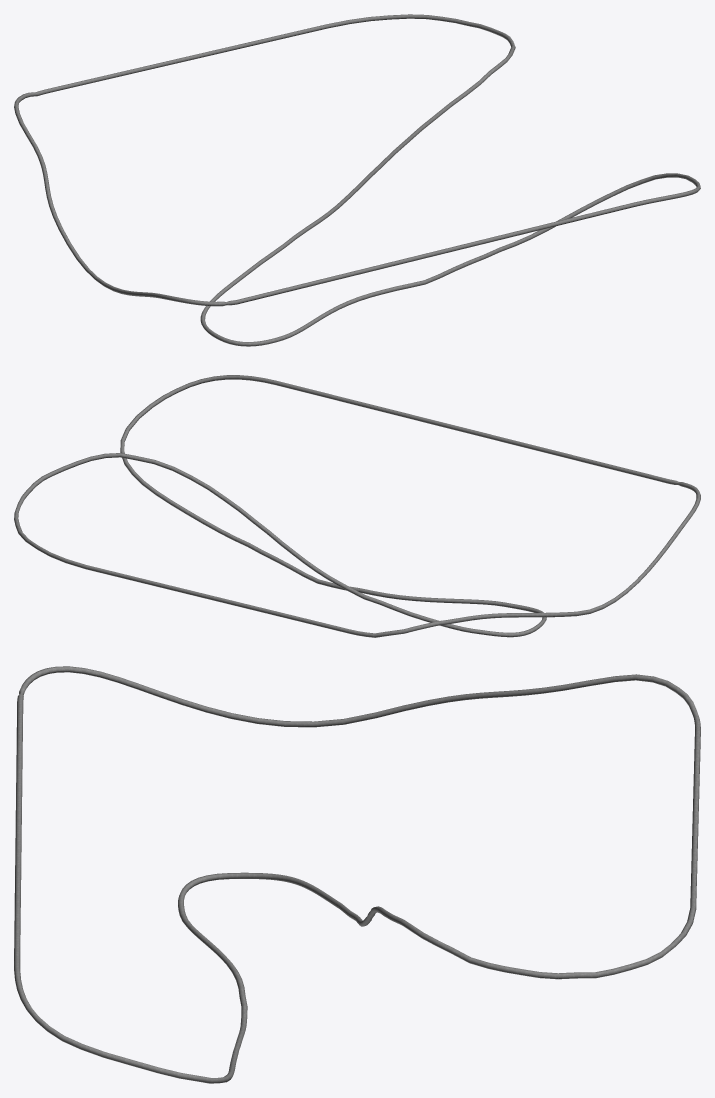
The model's file is MOD_Rail_MA_1.FBX.
3 renders of one model, top to bottom at view 1: azimuth 30°, elevation 25°; view 2: azimuth 150°, elevation 25°; view 3: azimuth 270°, elevation 25°, orthographic. The views are drawn at different scales.
Visible parts, largest first — view 1: RAIL1; view 2: RAIL1; view 3: RAIL1.
Part boxes in pixels (<box>): RAIL1: <box>14,14,700,346</box>; RAIL1: <box>14,375,700,637</box>; RAIL1: <box>14,666,700,1083</box>.
Bounding box in the file's own units: 52.67 × 13.16 × 42.28.
